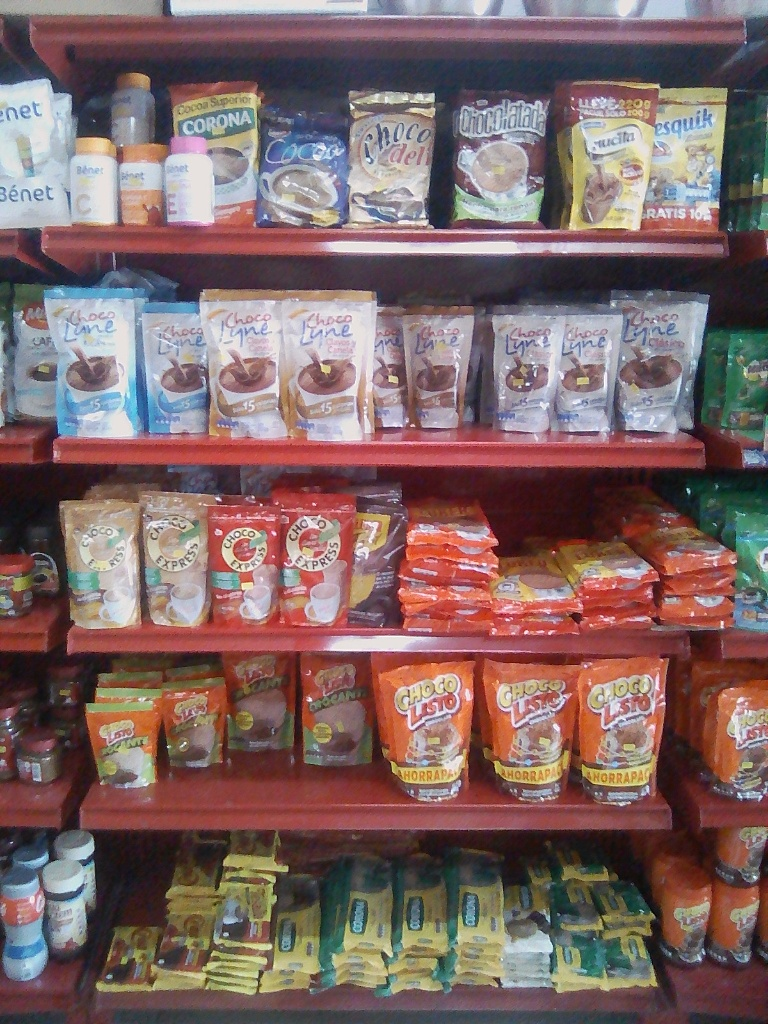COL0170102DYP10000: (167, 683, 227, 774)
COL0170102DYP25000: (299, 651, 373, 770)
COL0170103DYP20000: (715, 686, 763, 807)
COL0170103DYP36000: (581, 655, 660, 810)
COL0170103TRR30000: (715, 878, 761, 967)
COL0170203DYP10000: (728, 327, 764, 435)
